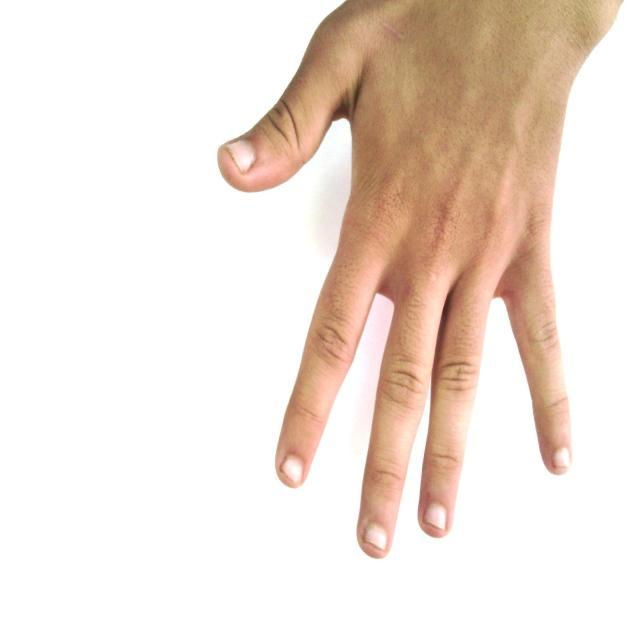Fingernail: (227, 139, 254, 171), (365, 525, 387, 550), (282, 456, 303, 482), (425, 503, 446, 528), (554, 448, 570, 468)
